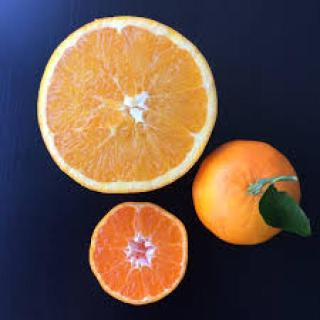orange: (18, 0, 216, 208), (176, 142, 300, 276), (75, 195, 201, 311)
